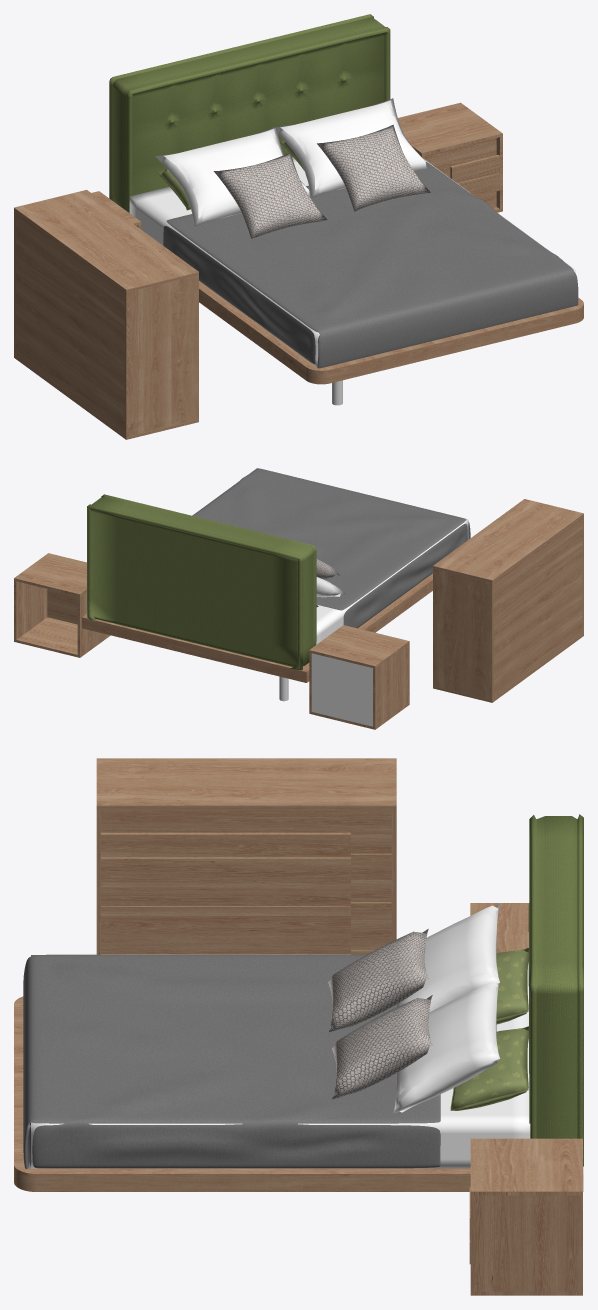
File: bedroom set.glb
3 views of the same model, one above another, from view 1: azimuth 30°, elevation 25°; view 2: azimuth 150°, elevation 25°; view 3: azimuth 270°, elevation 25° (orthographic). The views are drawn at different scales.
Visible parts, largest first — view 1: Plapuma, speteaza, Vert.006, Vert.008, Vert.001, bord, Vert.003, Cube.004, Cube.005, Cube.010, Cube.009, Saltea (+3 smaller); view 2: speteaza, Plapuma, Vert.006, Vert.007, Vert.003, Vert.001, Vert.004, bord, Vert.002, Saltea, Vert.005; view 3: Plapuma, Vert.006, Vert.003, speteaza, Vert.001, bord, Saltea, Cube.004, Cube.005, Cube.009, Cube.010, Cube.006 (+5 smaller).
Part boxes in pixels (x1,y1,x2,y2): Plapuma: (163,162,578,368); speteaza: (109,14,390,212); Vert.006: (15,212,124,435); Vert.008: (124,275,198,436); Vert.001: (14,190,198,292); bord: (199,281,583,384); Vert.003: (398,102,502,212); Cube.004: (317,124,430,211); Cube.005: (213,152,327,238); Cube.010: (164,129,309,221); Cube.009: (280,100,426,192); Saltea: (129,156,575,366); speteaza: (87,494,316,670); Plapuma: (192,468,470,628); Vert.006: (493,517,582,698); Vert.007: (433,568,493,700); Vert.003: (14,553,110,657); Vert.001: (433,499,583,582); Vert.004: (309,625,409,729); bord: (82,573,432,682); Vert.002: (311,653,372,726); Saltea: (193,468,468,644); Vert.005: (433,633,583,702); Plapuma: (23,954,440,1168); Vert.006: (101,809,391,954); Vert.003: (469,1138,582,1295); speteaza: (528,814,583,1166); Vert.001: (96,758,396,809); bord: (14,996,583,1191); Saltea: (31,955,530,1168); Cube.004: (332,995,432,1099); Cube.005: (328,929,428,1031); Cube.009: (395,981,498,1112); Cube.010: (396,905,497,1007); Cube.006: (450,1026,528,1110).
Size of the model in its own units: 3.19 by 1.13 by 2.28.
10 materials, 5 textured.
